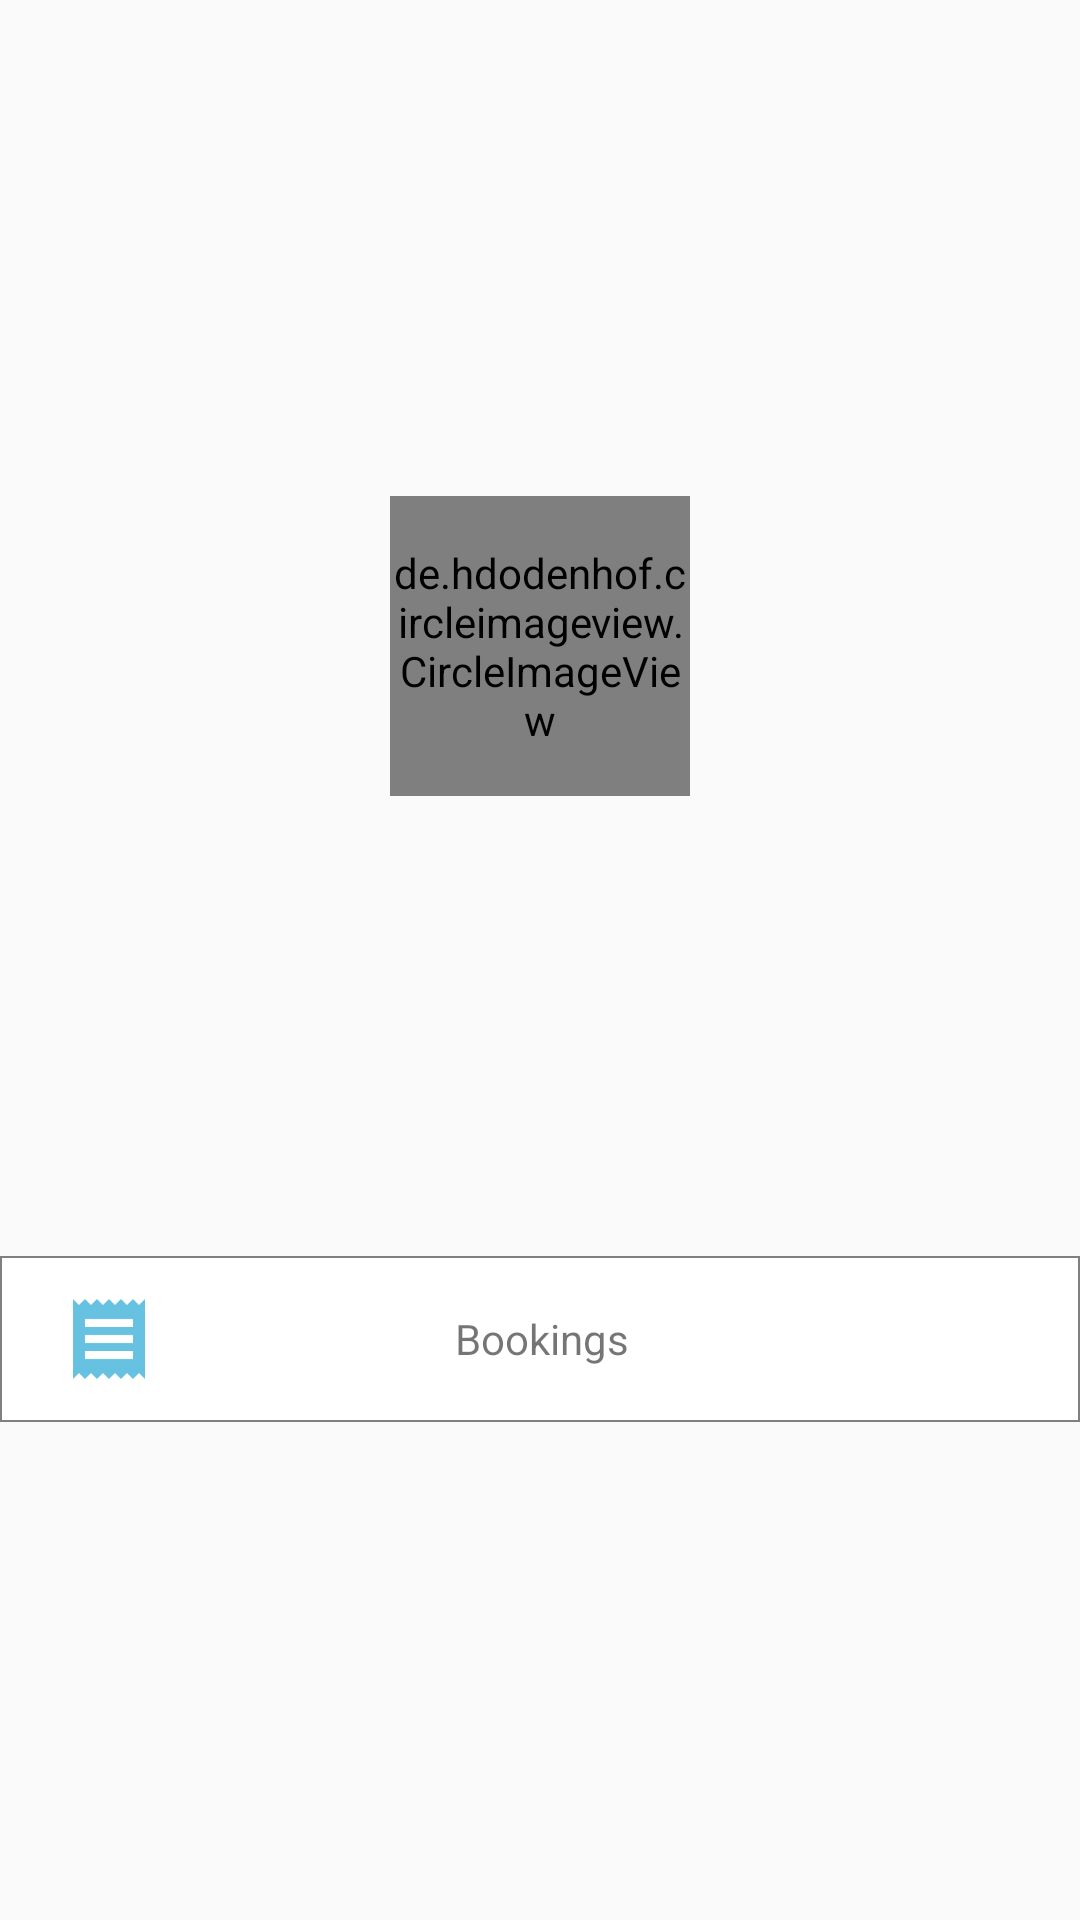

Icon bounding boxes for this 1080×1920 phone screenshot, format detection(x1, y1, x2, y2):
receipt: detection(73, 1299, 145, 1379)
